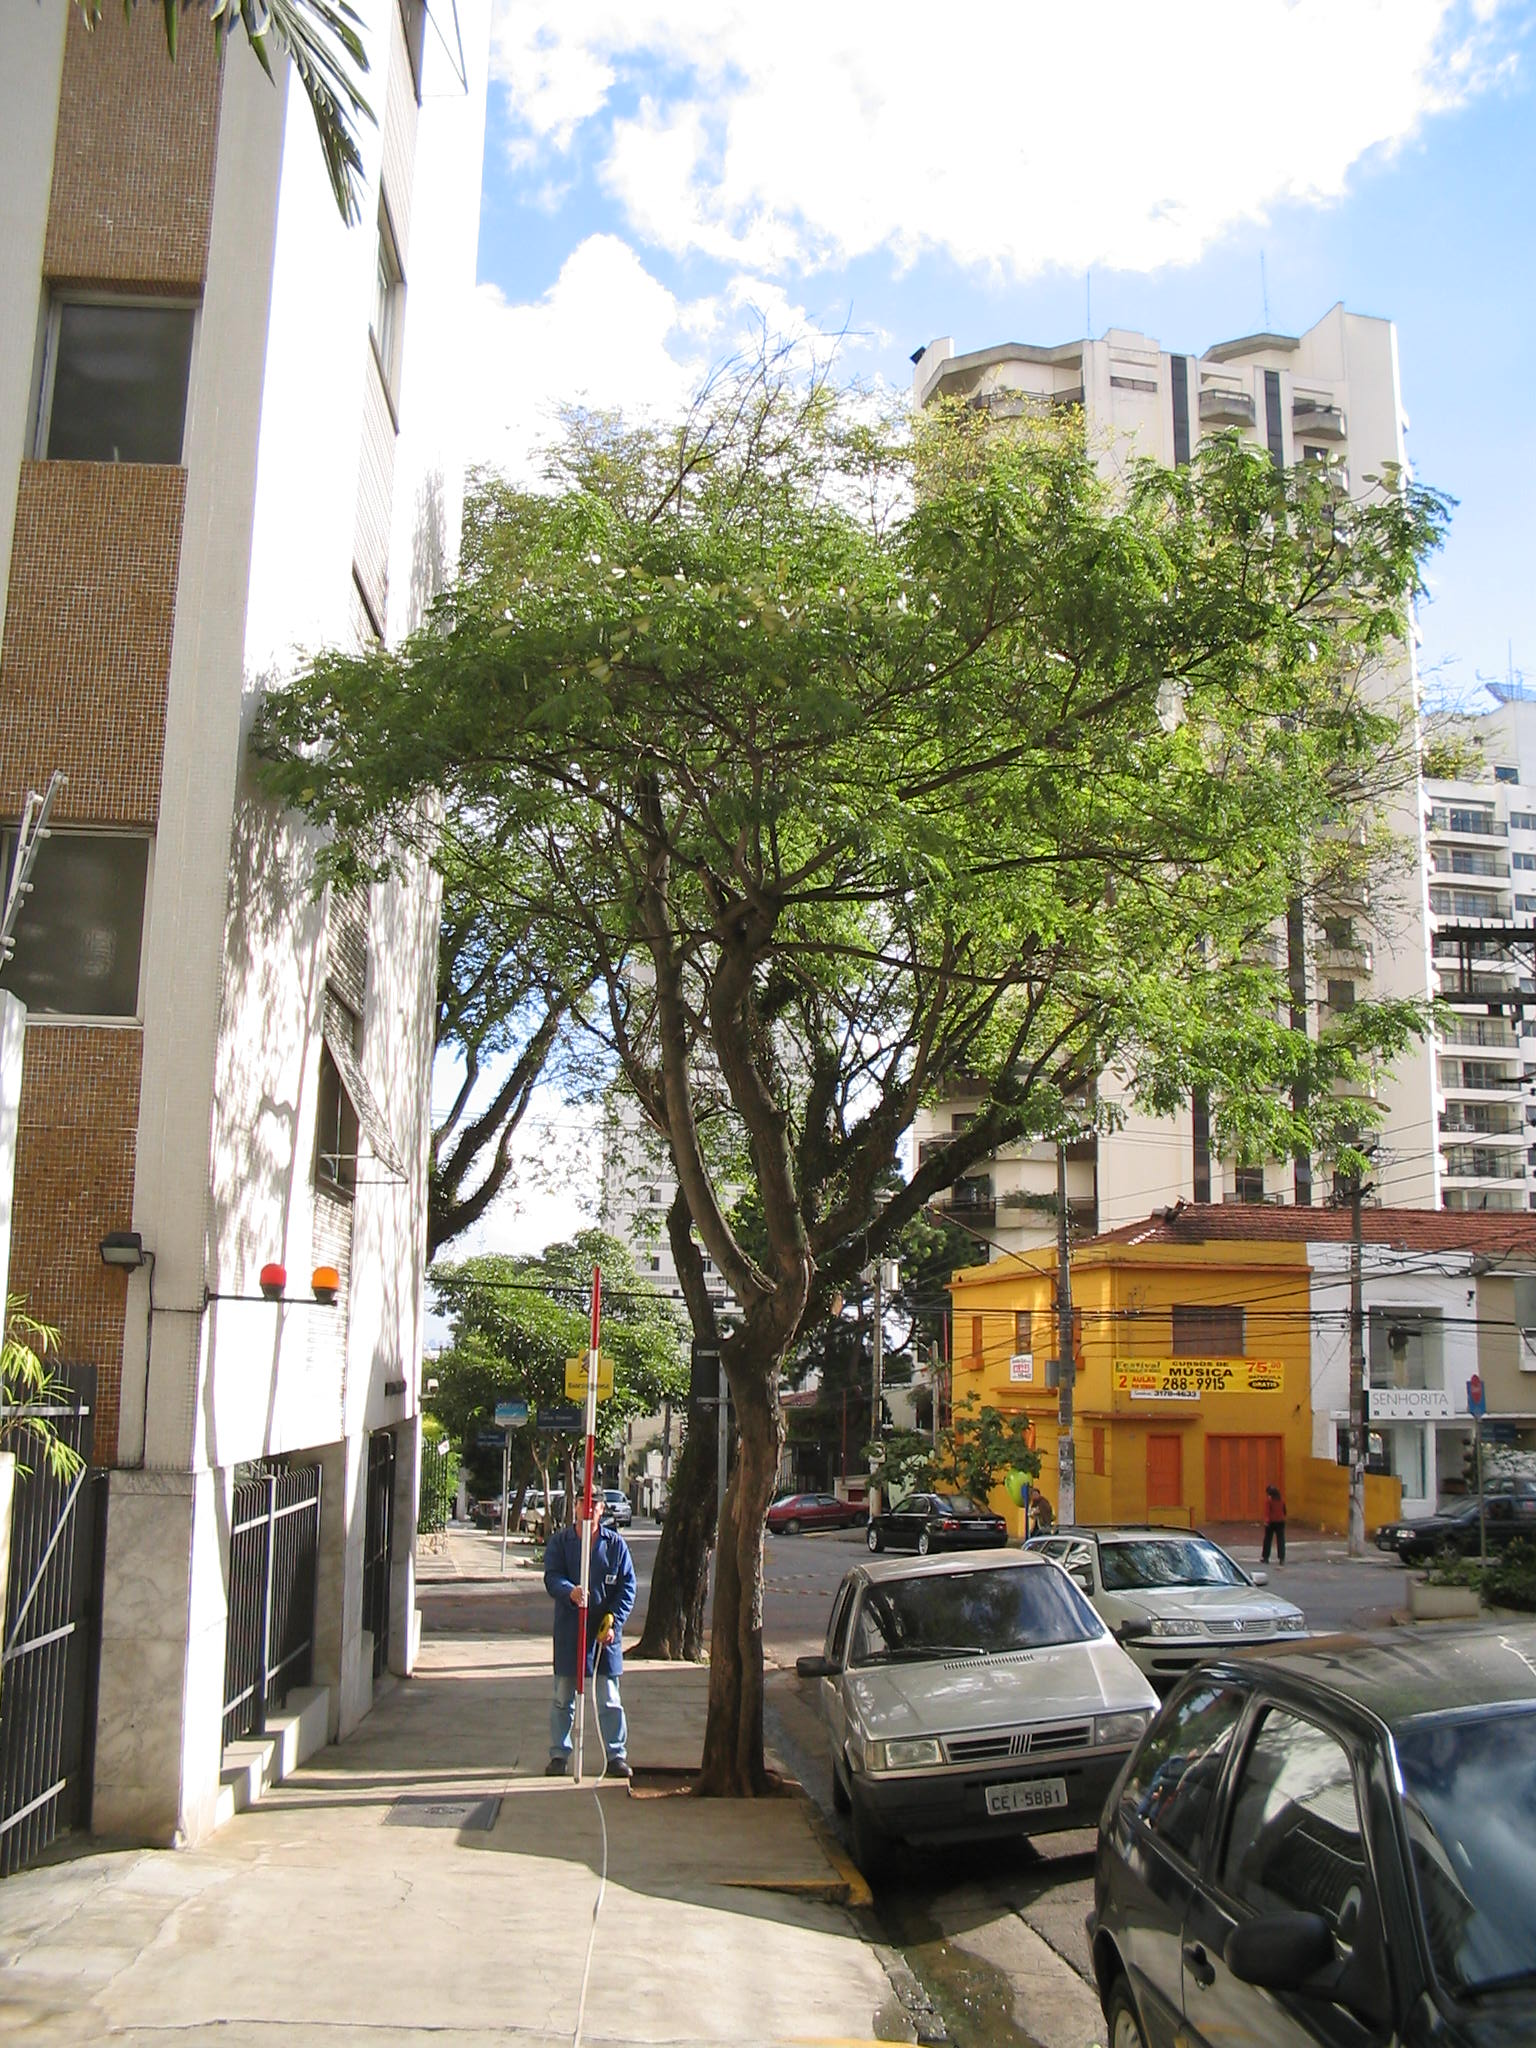crown: (274, 350, 1491, 1218)
stem: (673, 1300, 839, 1803), (623, 1350, 731, 1661)
stick: (542, 1268, 632, 1780)
tree: (260, 347, 1499, 1803)
